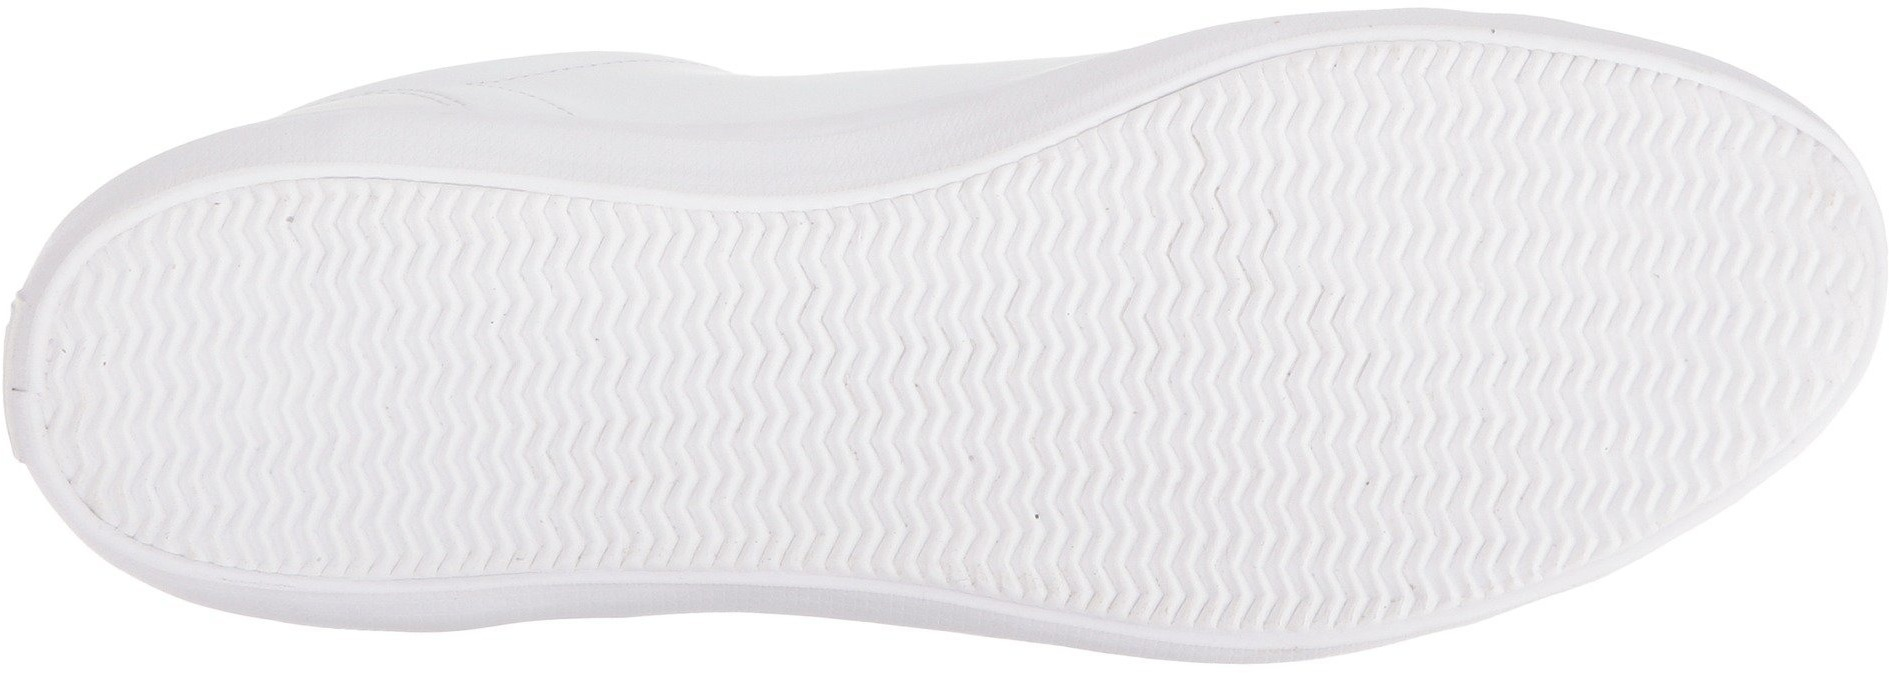chevron: (1263, 67, 1650, 443), (611, 222, 940, 559), (289, 211, 601, 562), (948, 183, 1259, 460), (1656, 190, 1858, 423), (67, 290, 283, 504), (1265, 449, 1446, 621), (1110, 467, 1250, 621), (1463, 454, 1585, 579)
